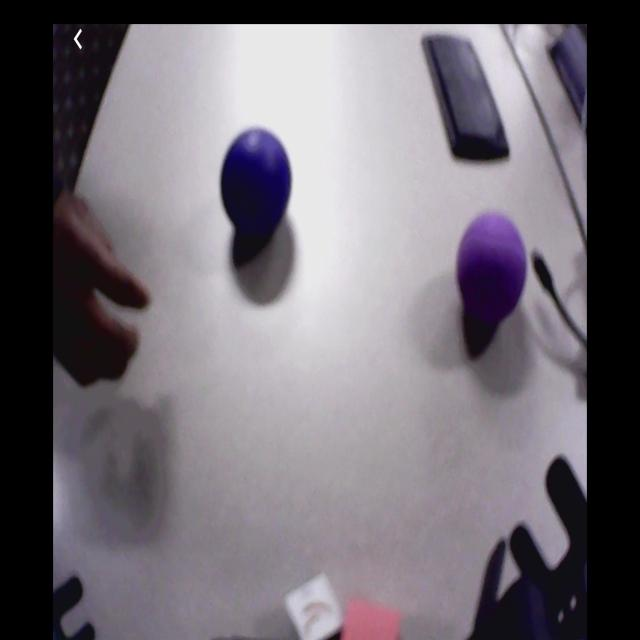ball: (221, 130, 292, 231), (458, 214, 526, 317)
